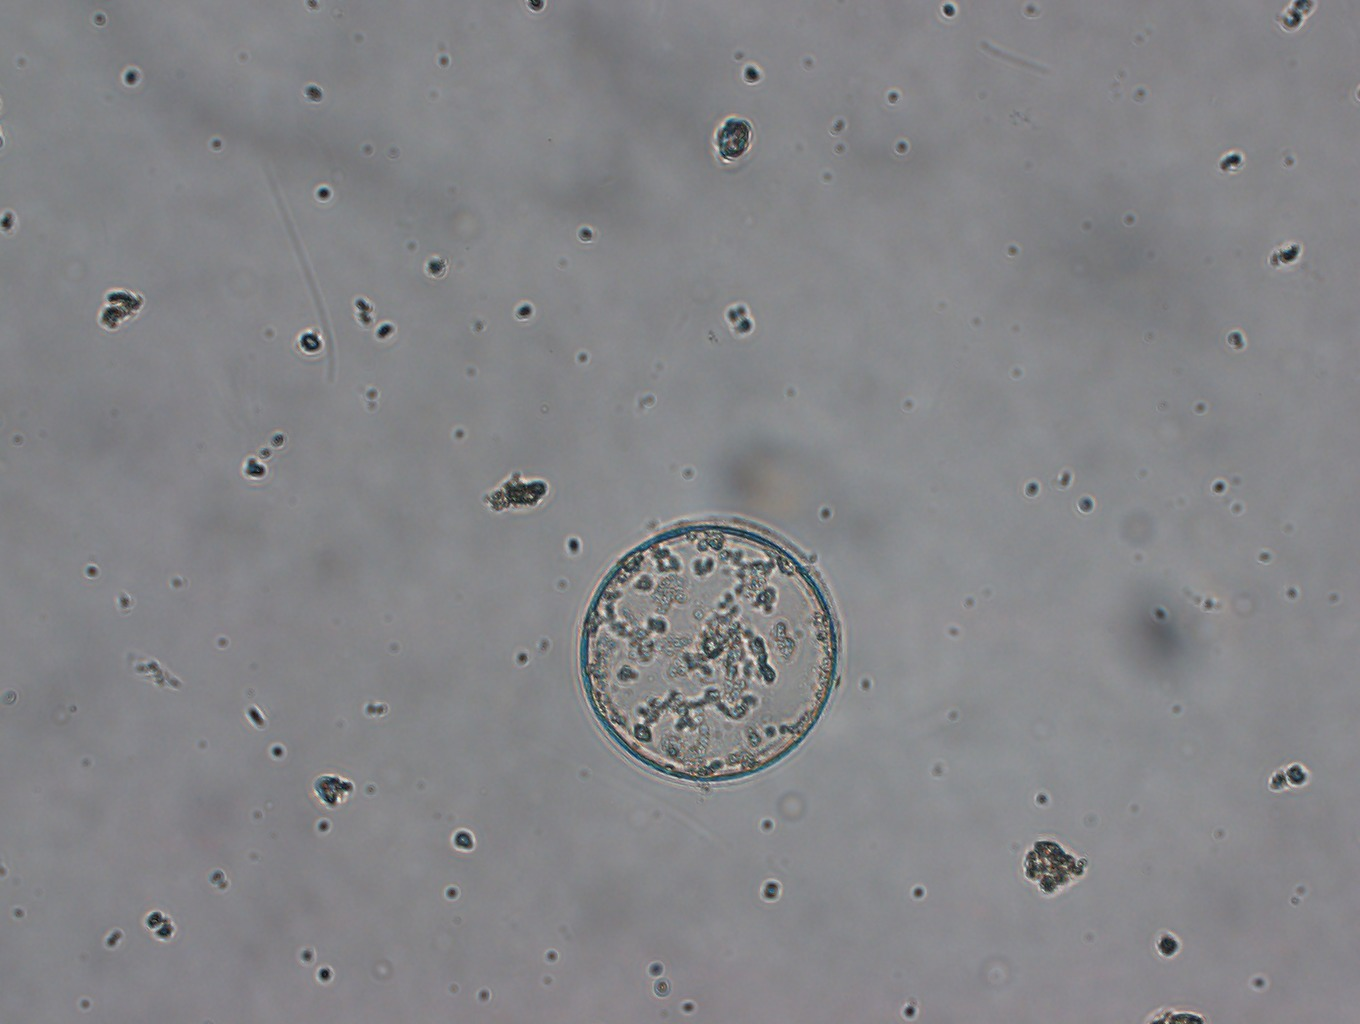coscinodiscus: (557, 501, 850, 790)
